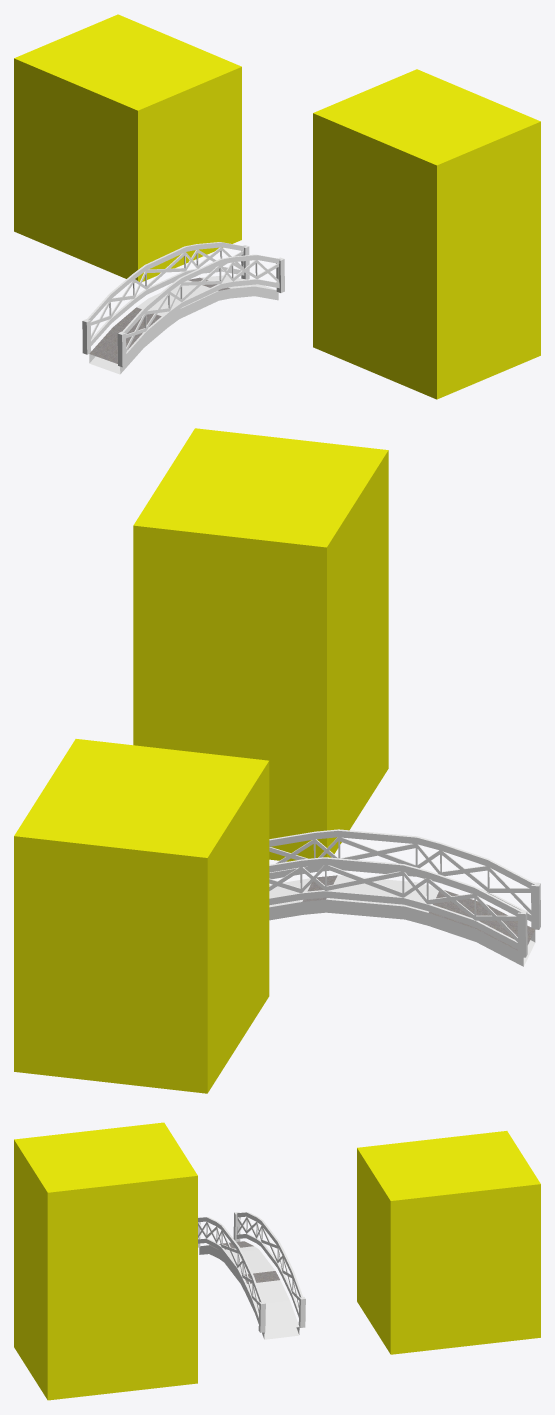
The model's file is DesignOne_Plan.fbx.
The picture shows the model from 3 angles, top to bottom: view 1: azimuth 30°, elevation 25°; view 2: azimuth 150°, elevation 25°; view 3: azimuth 270°, elevation 25°; orthographic projection. The views are drawn at different scales.
Parts seen in each view (by area): view 1: Model, Component_1_1; view 2: Model, Component_1_1; view 3: Model, Component_1_1.
Boxes of the visible parts, x1,y1,x2,y2 form: Model: [14, 14, 540, 399]; Component_1_1: [82, 242, 284, 374]; Model: [14, 428, 388, 1093]; Component_1_1: [269, 829, 540, 966]; Model: [14, 1122, 540, 1400]; Component_1_1: [198, 1212, 305, 1339].
Size of the model in its own units: 73.43 by 46.97 by 108.
